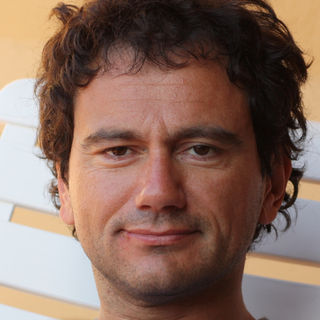eye: (86, 141, 150, 164), (173, 138, 227, 164)
